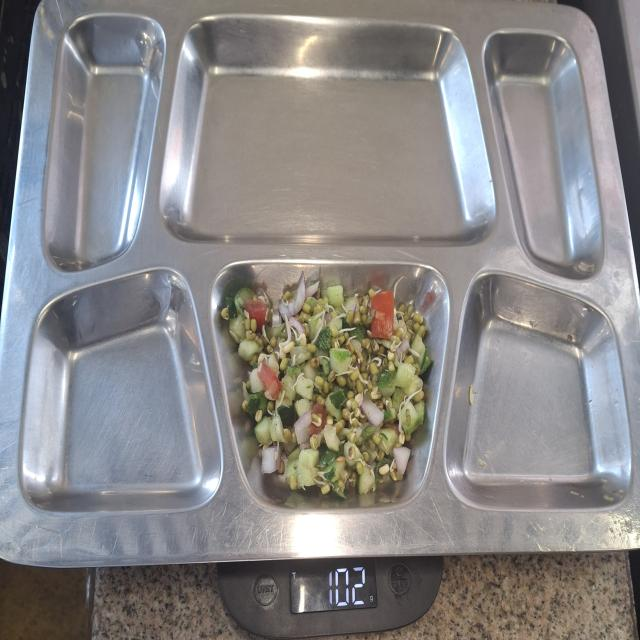Sprouts chaat: (230, 288, 434, 493)
